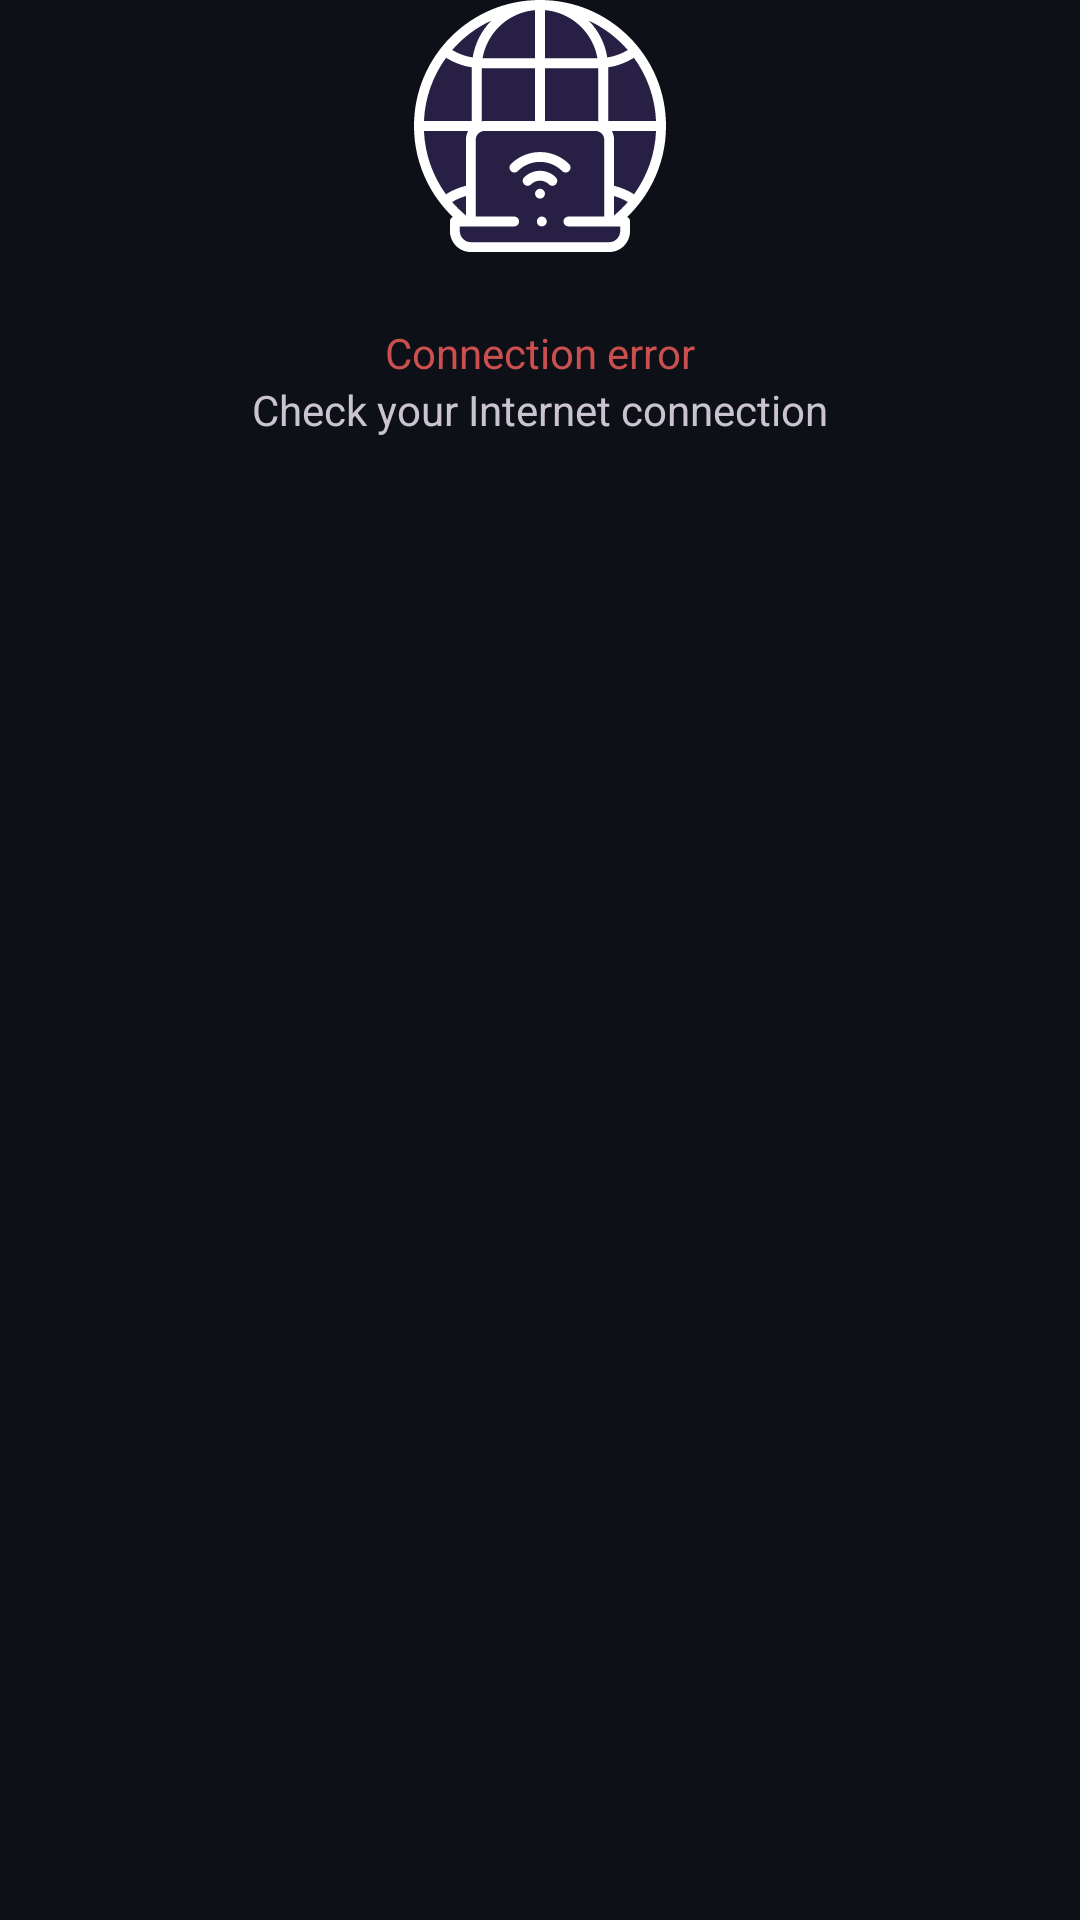

Icon bounding boxes for this 1080 x 1920 phone screenshot, format region(x1, y1, x2, y2):
no connection: region(414, 0, 666, 252)
